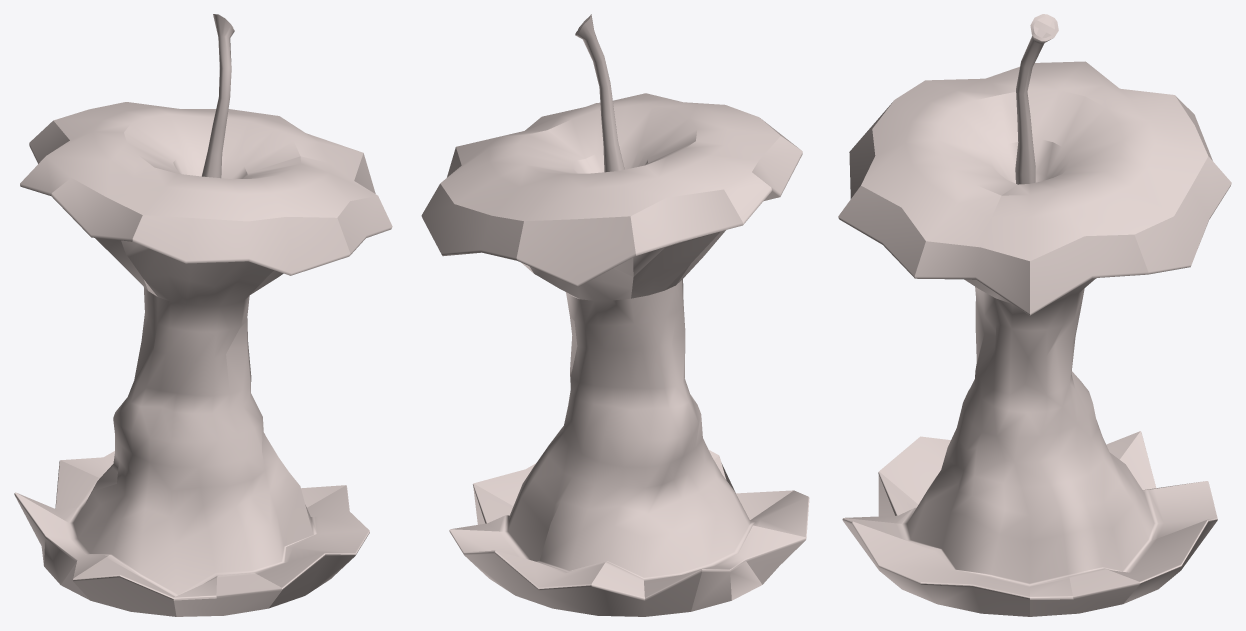
File: Eaten_Apple.fbx
The picture shows the model from 3 angles, left to right: view 1: azimuth 30°, elevation 25°; view 2: azimuth 150°, elevation 25°; view 3: azimuth 270°, elevation 25°; orthographic projection. The views are drawn at different scales.
Parts seen in each view (by area): view 1: pCylinder2; view 2: pCylinder2; view 3: pCylinder2.
Boxes of the visible parts, box(x1,y1,x2,y2) form: pCylinder2: box(14, 14, 392, 616); pCylinder2: box(421, 14, 809, 616); pCylinder2: box(838, 14, 1231, 616).
Size of the model in its own units: 1.35 by 2.17 by 1.33.
